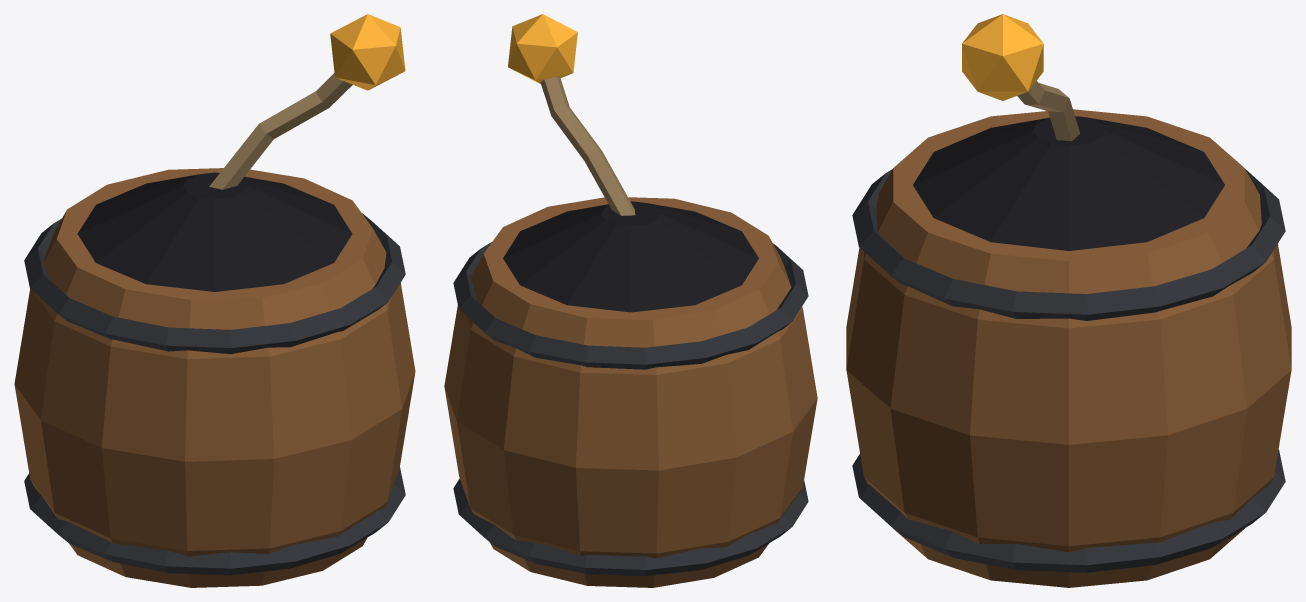
File: GearGunpowder.obj
The picture shows the model from 3 angles, left to right: view 1: azimuth 30°, elevation 25°; view 2: azimuth 150°, elevation 25°; view 3: azimuth 270°, elevation 25°; orthographic projection. The views are drawn at different scales.
Parts seen in each view (by area): view 1: GearGunpowder; view 2: GearGunpowder; view 3: GearGunpowder.
Part boxes in pixels (x1=…): GearGunpowder: x1=14, y1=14, x2=415, y2=587; GearGunpowder: x1=444, y1=14, x2=817, y2=587; GearGunpowder: x1=846, y1=14, x2=1291, y2=587.
Size of the model in its own units: 0.38 by 0.52 by 0.3705.
